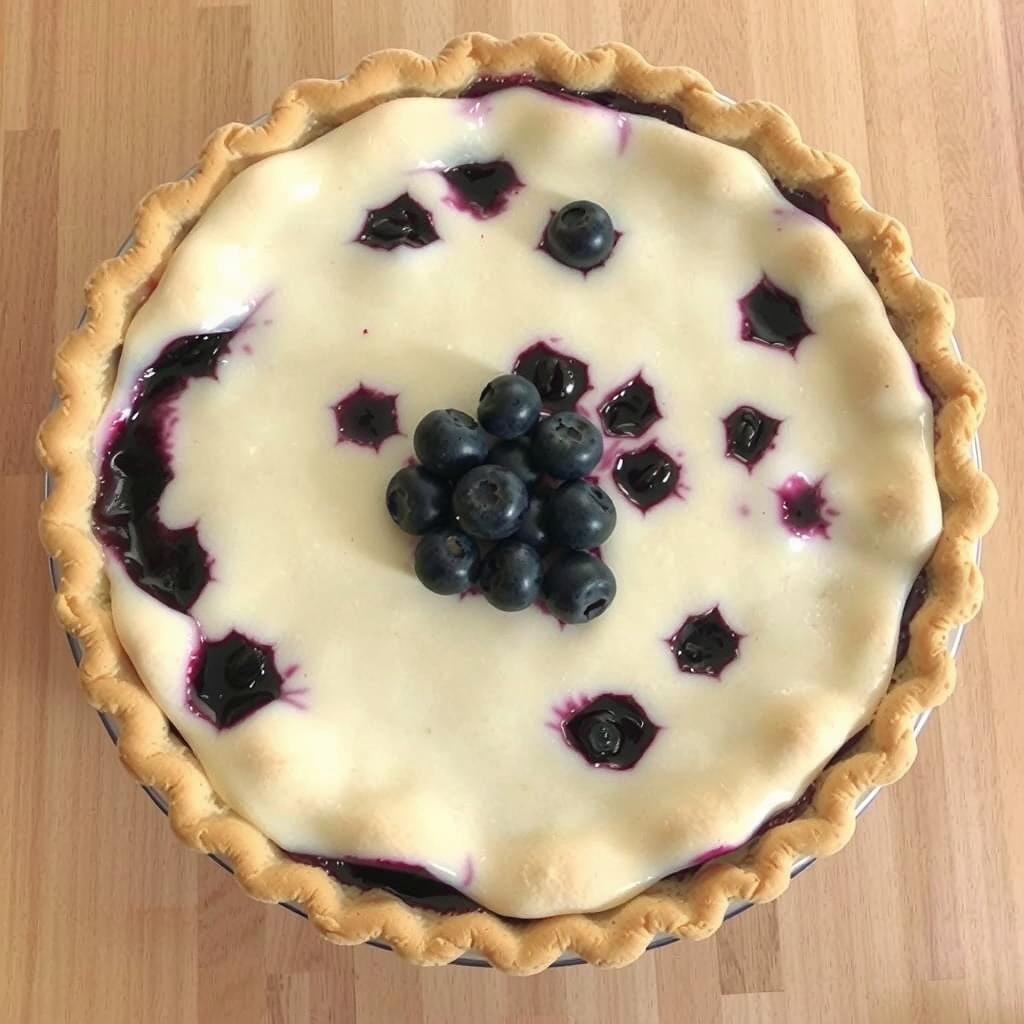pie: (29, 27, 996, 977)
